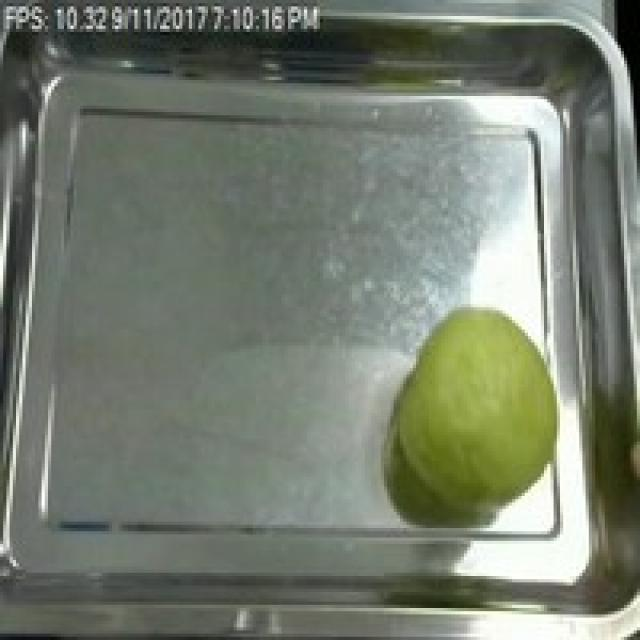Fruit: (384, 298, 576, 531)
